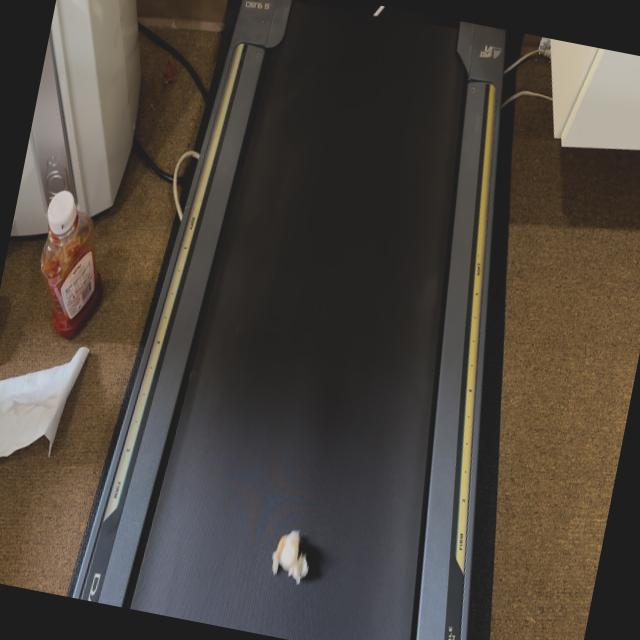Trash: (260, 527, 314, 590)
